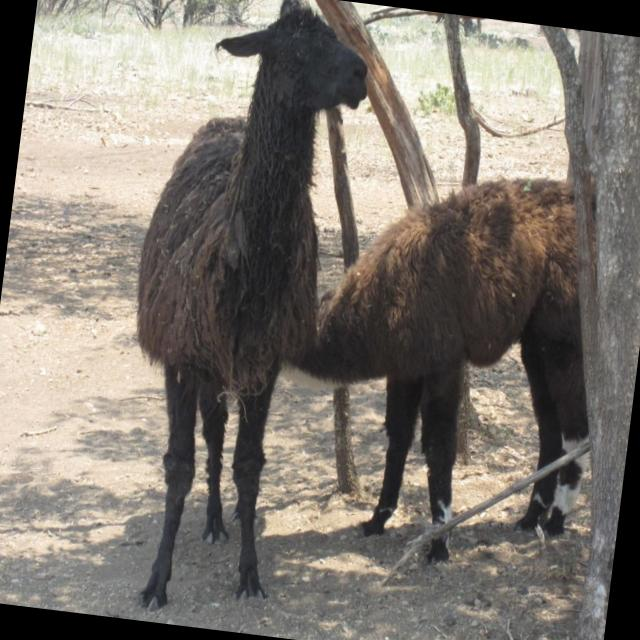alpaca: (99, 0, 376, 629)
